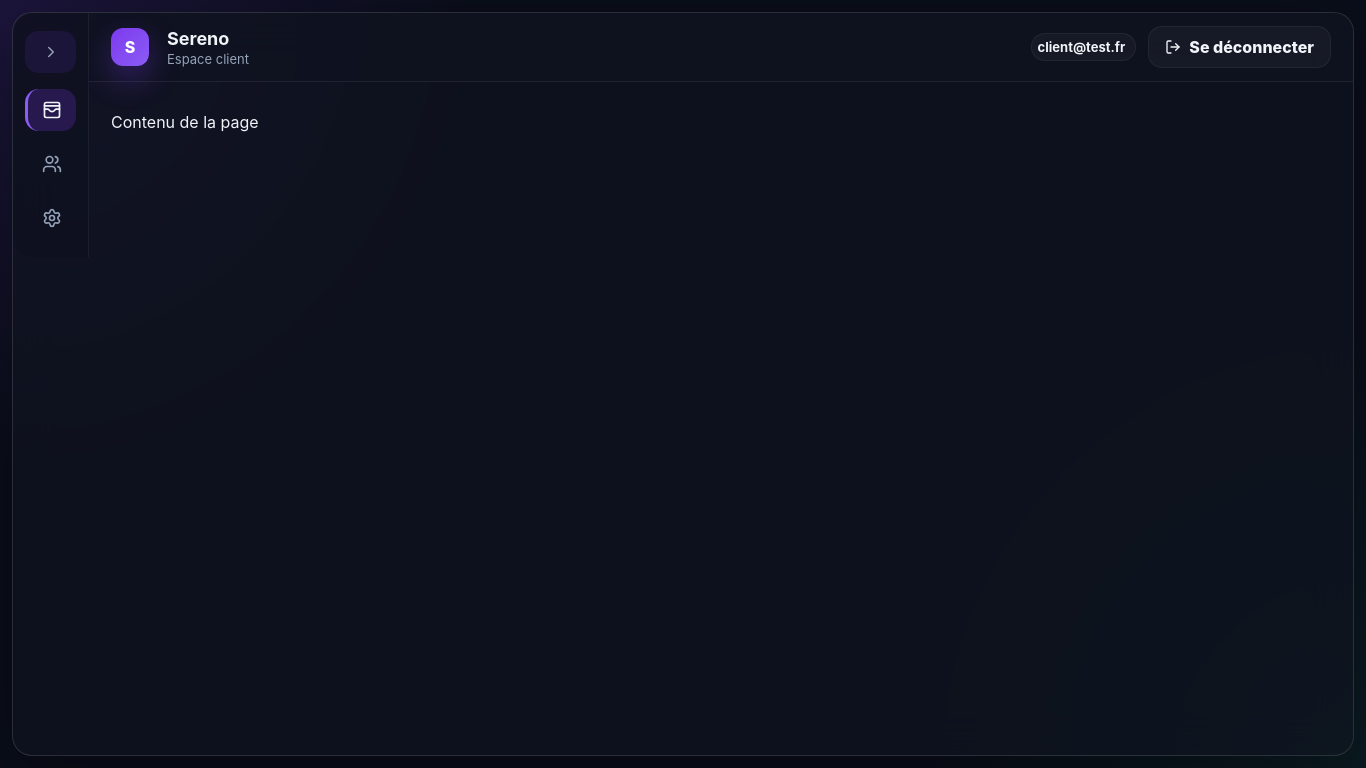
it: EspaceClientShell › §2 sidebar dédiée : Mes factures / Mes fournisseurs / Paramètres, rétractable
Expected: the text "Contenu de la page" is shown, [111,112,259,132]
Click the button named "Développer le menu": [50, 52] box [25,31,76,73]
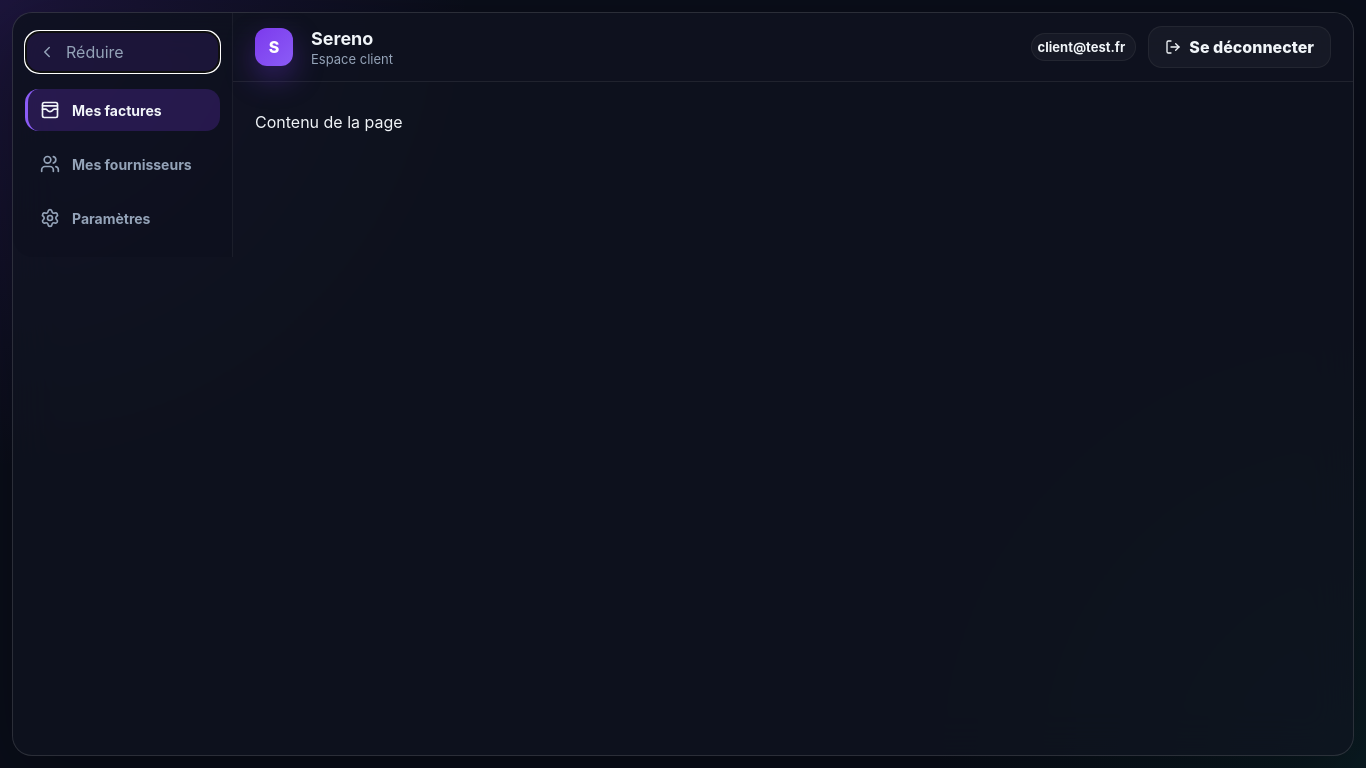
Now the button with aria-label "Réduire le menu" is shown, box [25,31,220,73]
